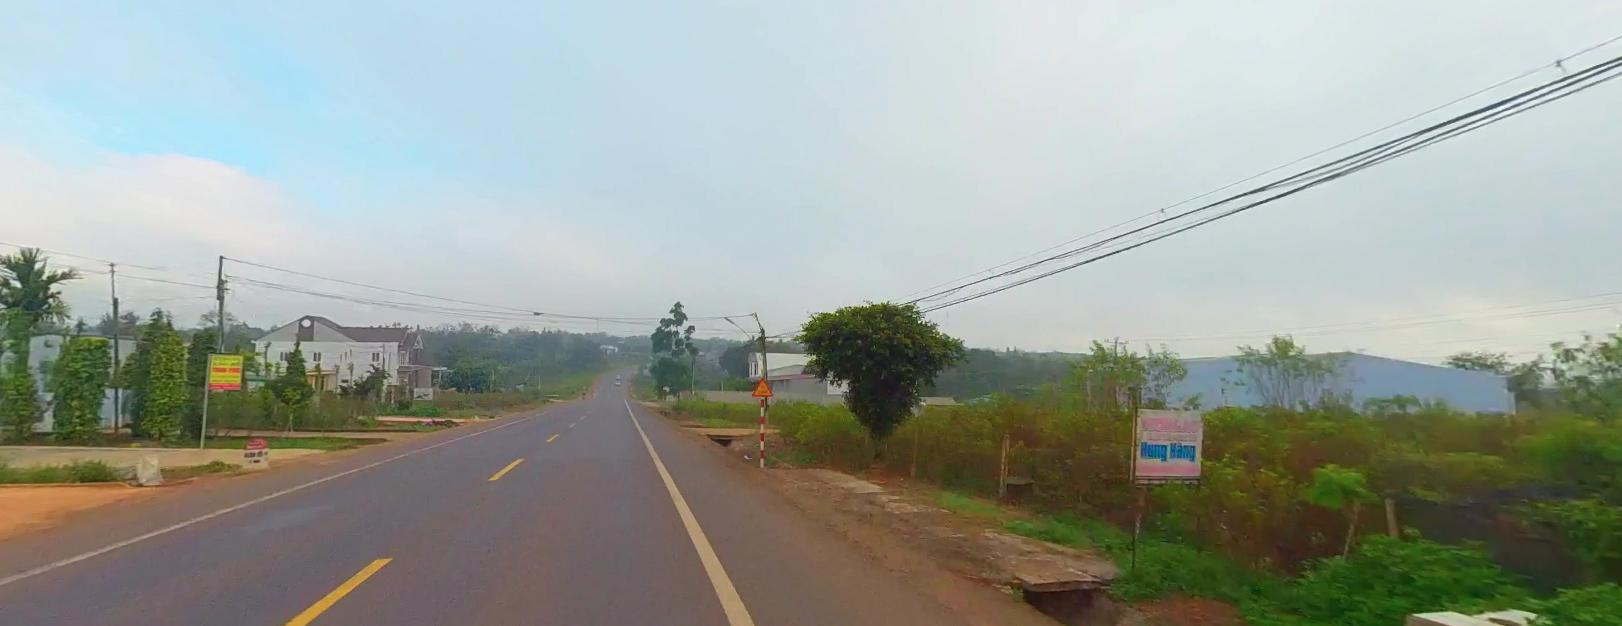Nguy hiem: (751, 375, 773, 395)
